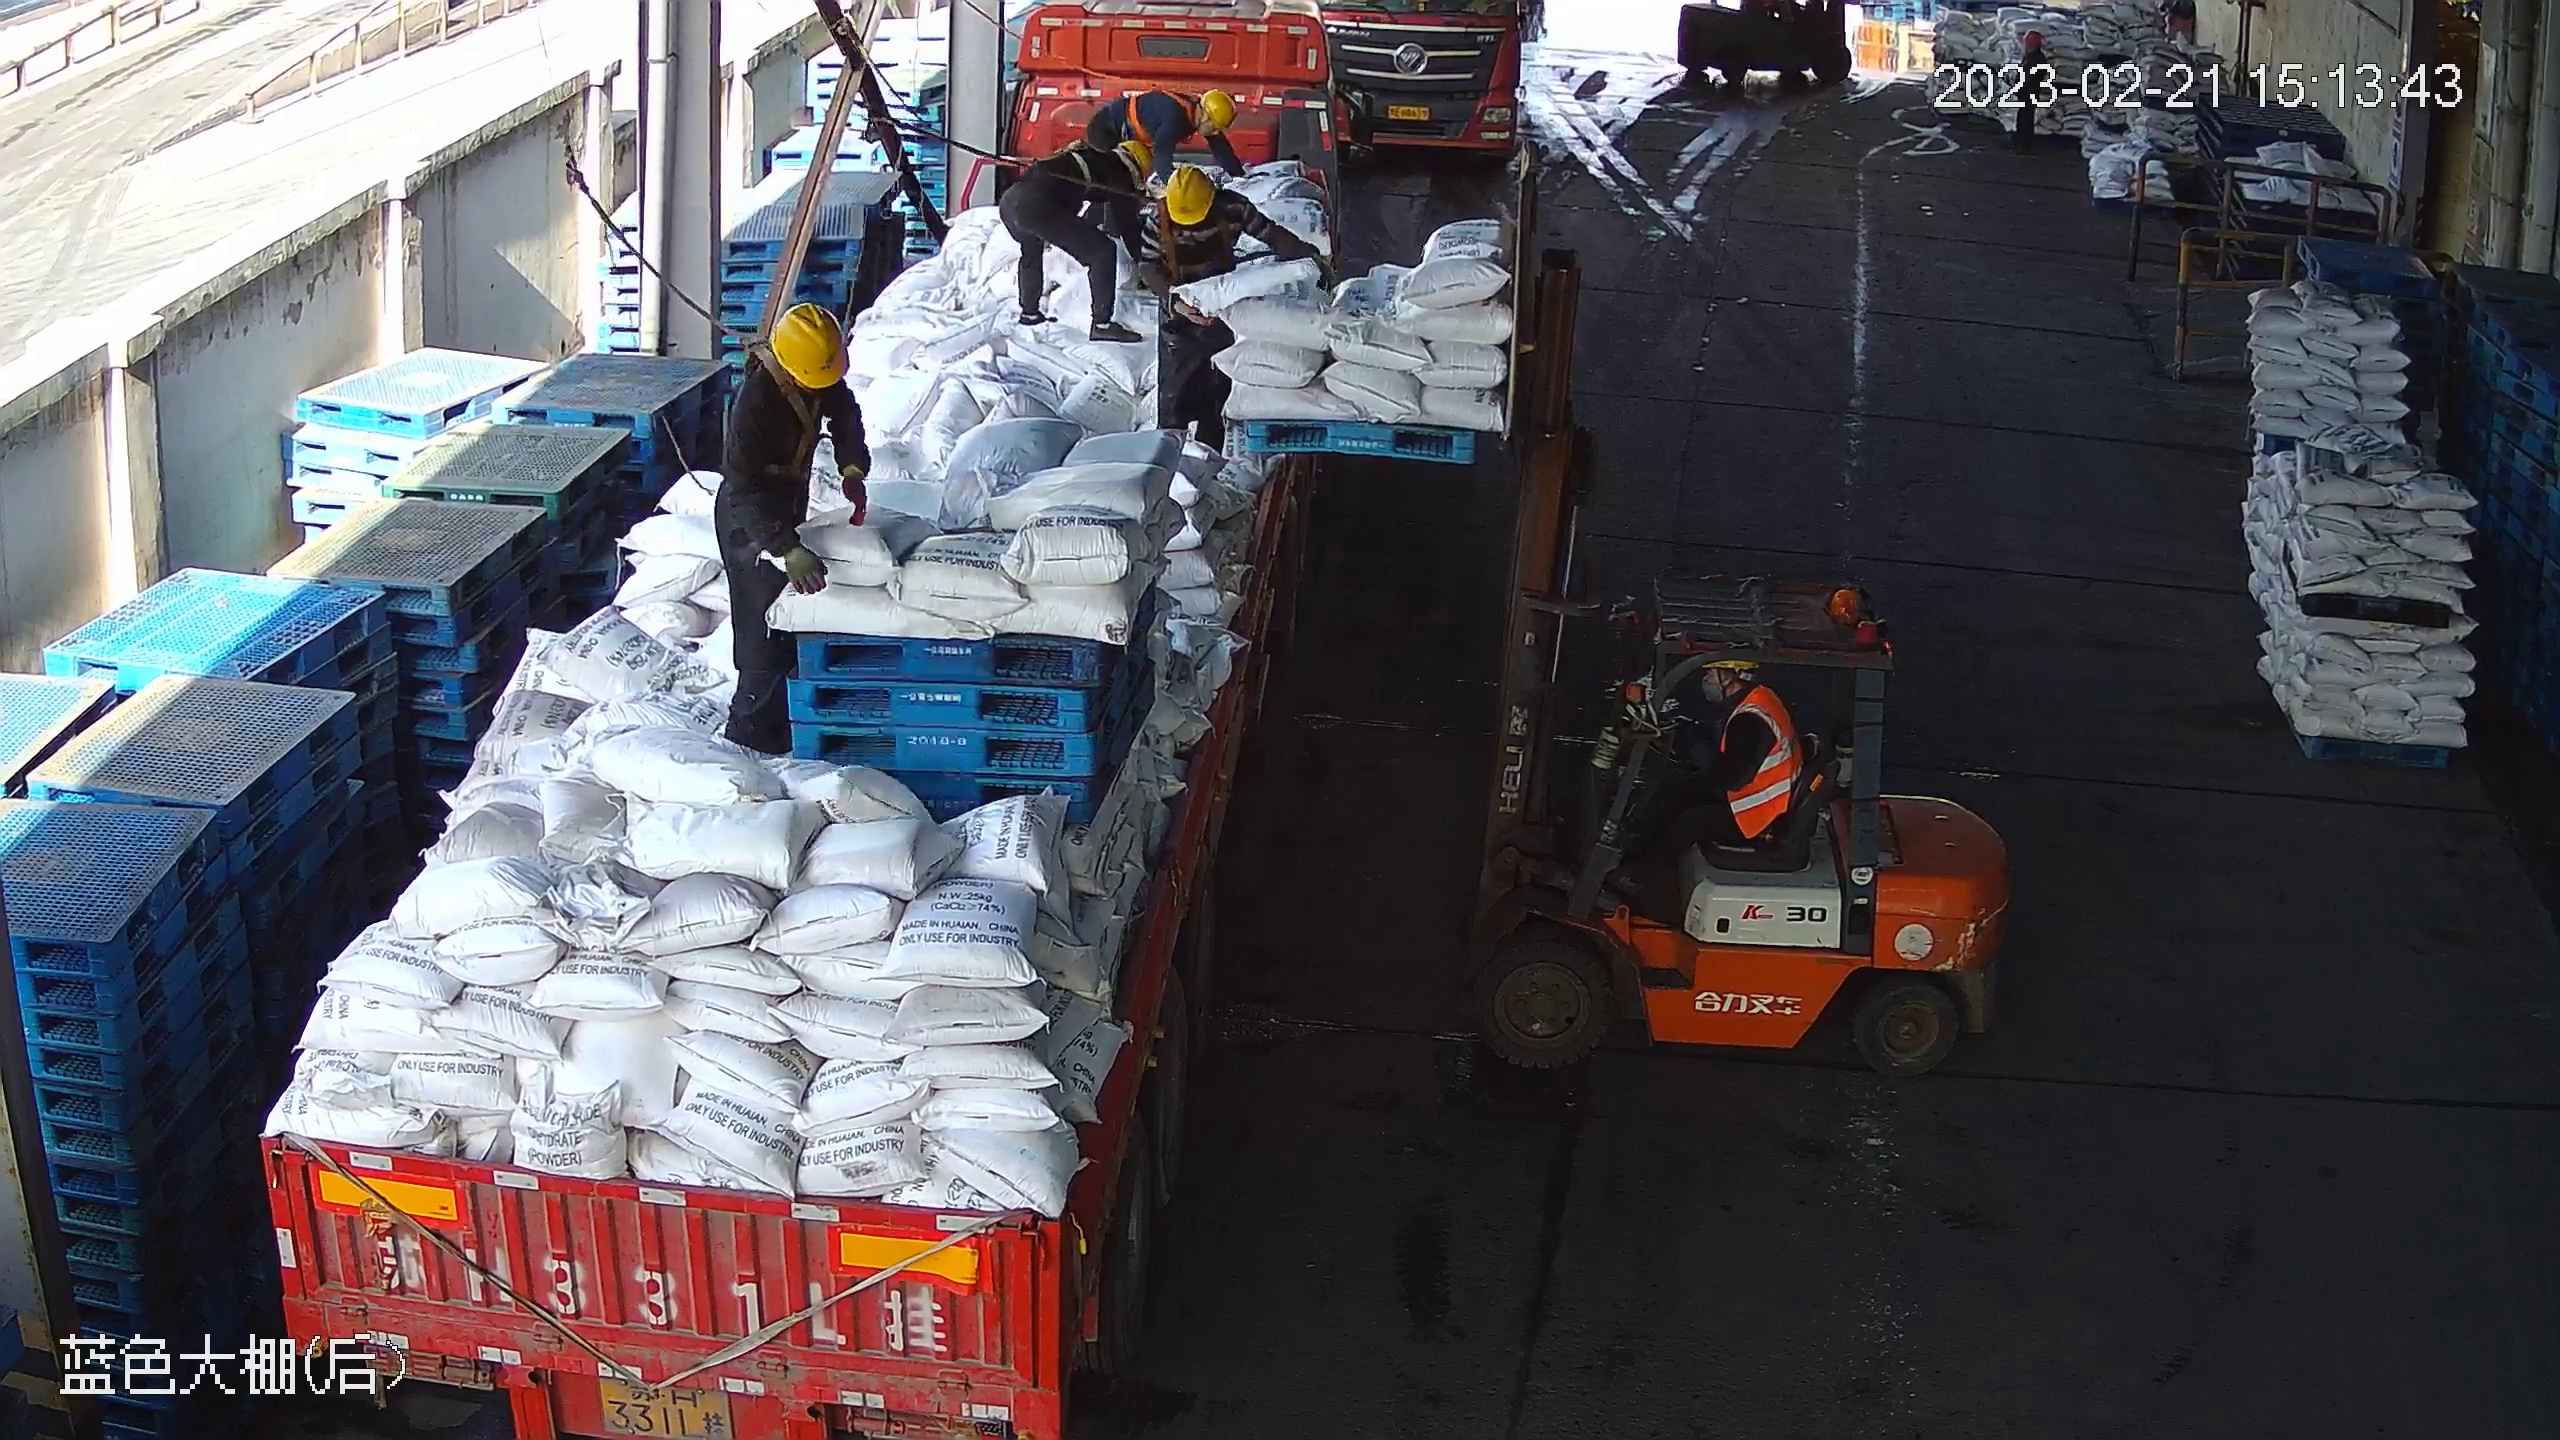belt: (743, 334, 821, 475), (1158, 197, 1232, 279), (1126, 84, 1200, 148), (1067, 140, 1107, 195)
head: (731, 302, 853, 418), (1149, 165, 1240, 241), (1158, 89, 1237, 140), (1094, 140, 1153, 193)
helmet: (767, 302, 852, 390), (1164, 165, 1216, 227), (1199, 89, 1237, 133), (1118, 141, 1154, 178)
people: (721, 302, 872, 754), (1134, 164, 1336, 459), (1599, 660, 1804, 895), (999, 140, 1154, 343), (1086, 88, 1247, 182)
truck: (259, 1, 1372, 1440), (1320, 1, 1523, 157)
